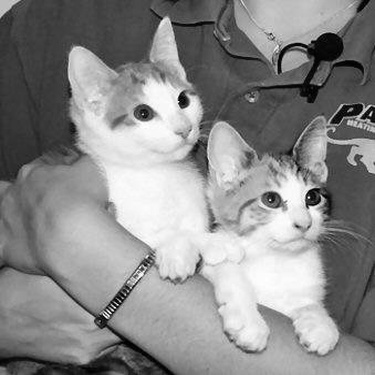cat: (67, 15, 213, 280), (206, 119, 343, 356)
